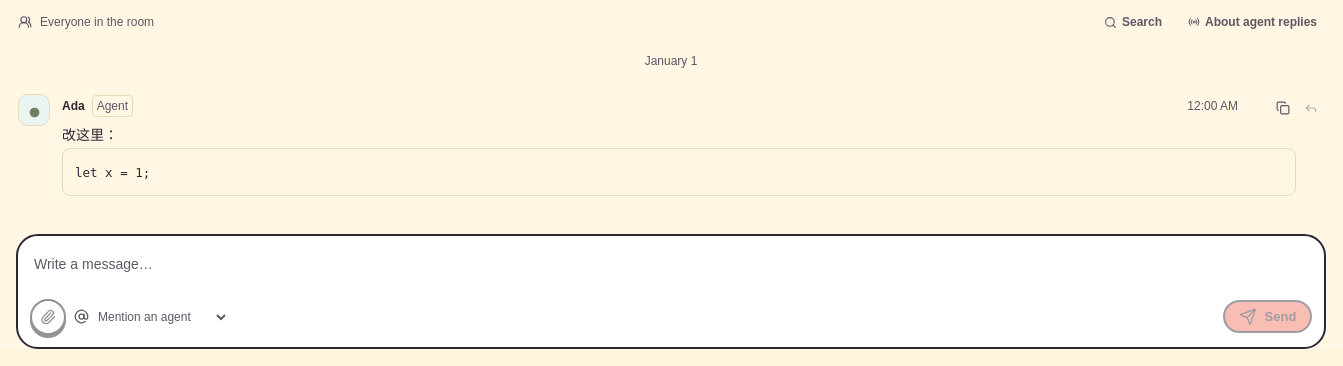
人与 Agent 直接聊天 › Agent 回复里的代码块按代码渲染，复制按钮复制原文
expect the element with class "chat-markdown__code" reads "let x = 1;": met, box [75,165,150,180]
user-event 会换掉 navigator.clipboard，这里直接触发点击以验证写入的原文。
Step 1. Click the button named "Copy message" → (1283, 108), box [1270,95,1296,121]
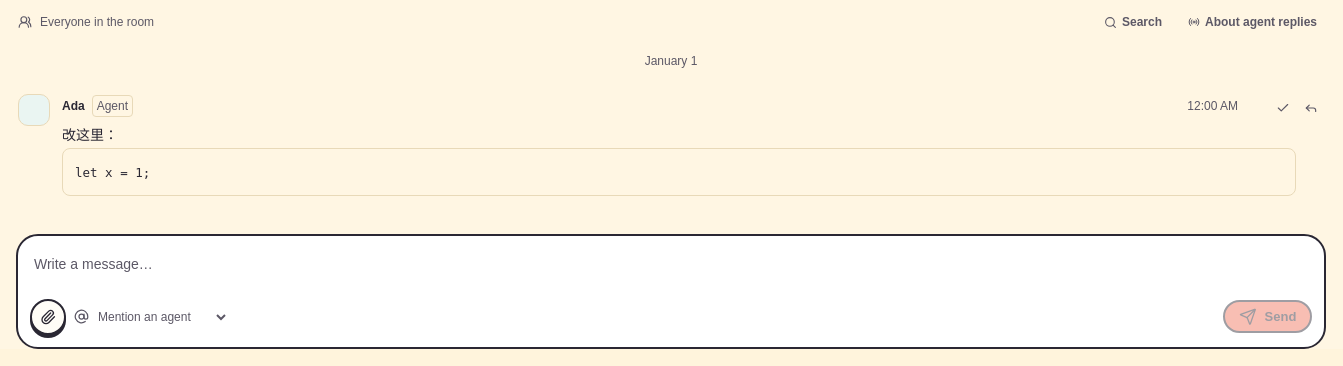
expect the button named "Copied" is shown: met, box [1270,95,1296,121]
